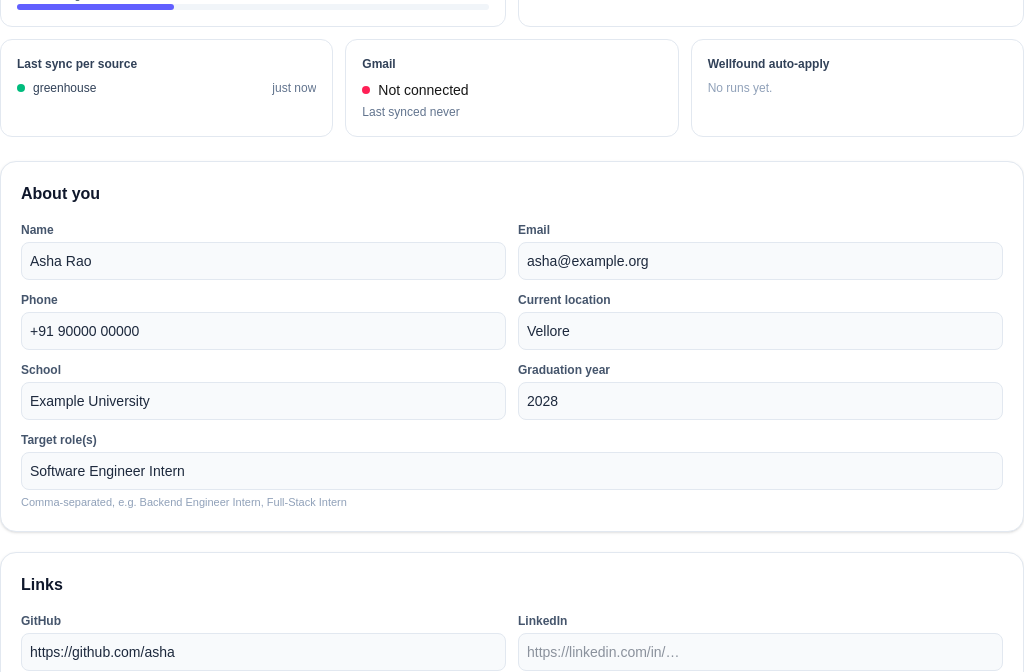
Test: ProfileManager › saves every section without wiping data, merging application answers
The width and height of the screenshot is (1024, 672).
(page scrolled)
Expected: the field showing "Asha Rao" is shown, left=21, top=242, right=506, bottom=280
Replace the text in the field showing "Vellore" with "Chennai" at (760, 331), box left=518, top=312, right=1003, bottom=350
(page scrolled)
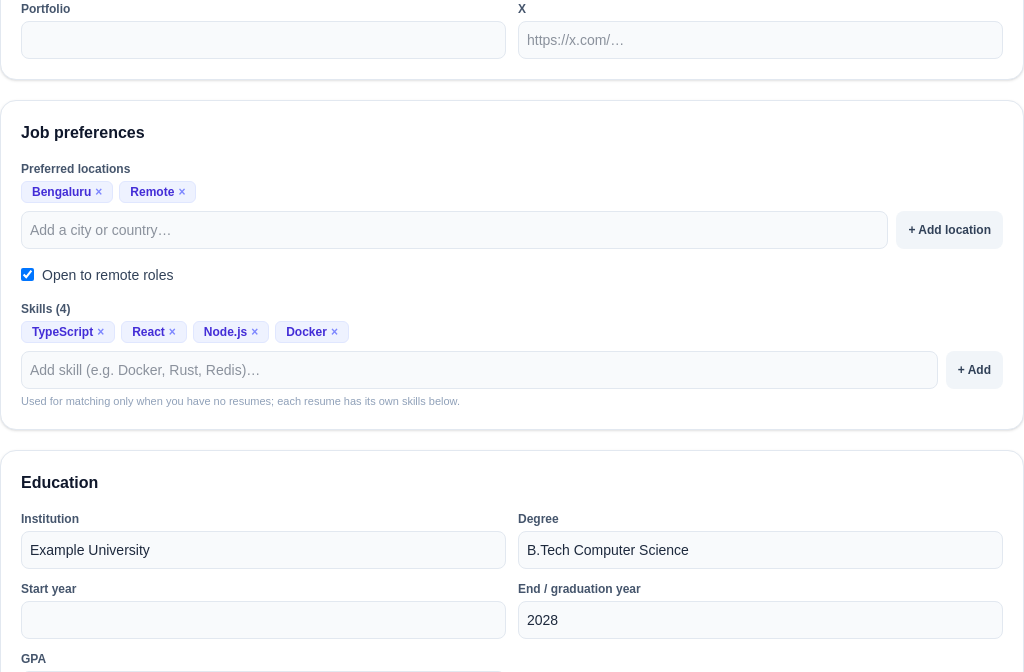
Click the button named "Remove Docker" at (334, 332), box left=331, top=324, right=338, bottom=340
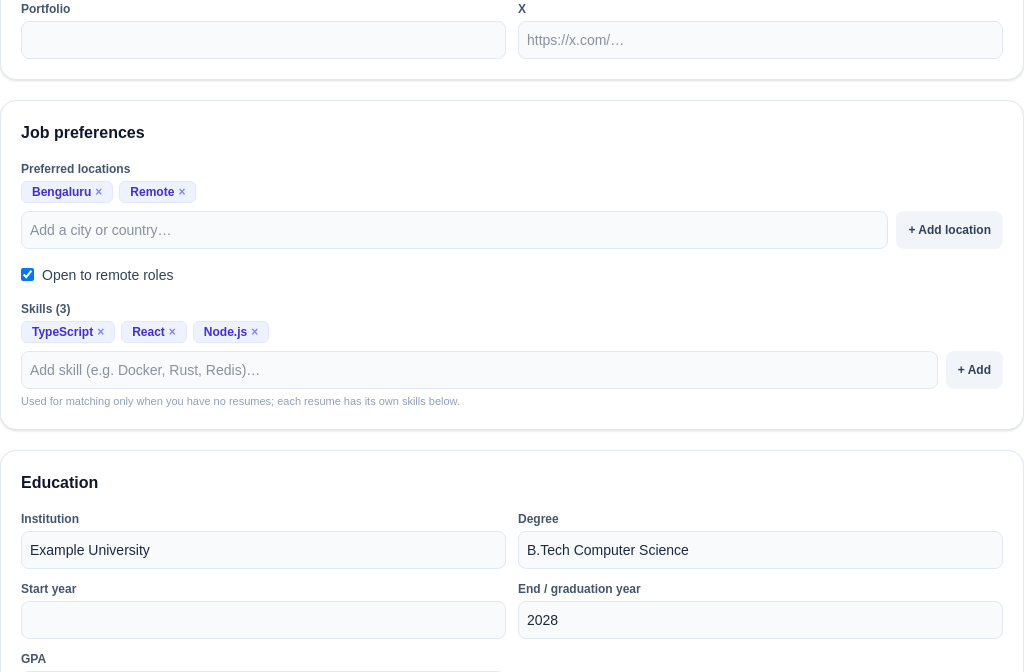
Type "Kubernetes" into the field with placeholder "Add skill (e.g. Docker, Rust, Redis)…" at (479, 370), box left=21, top=350, right=938, bottom=388
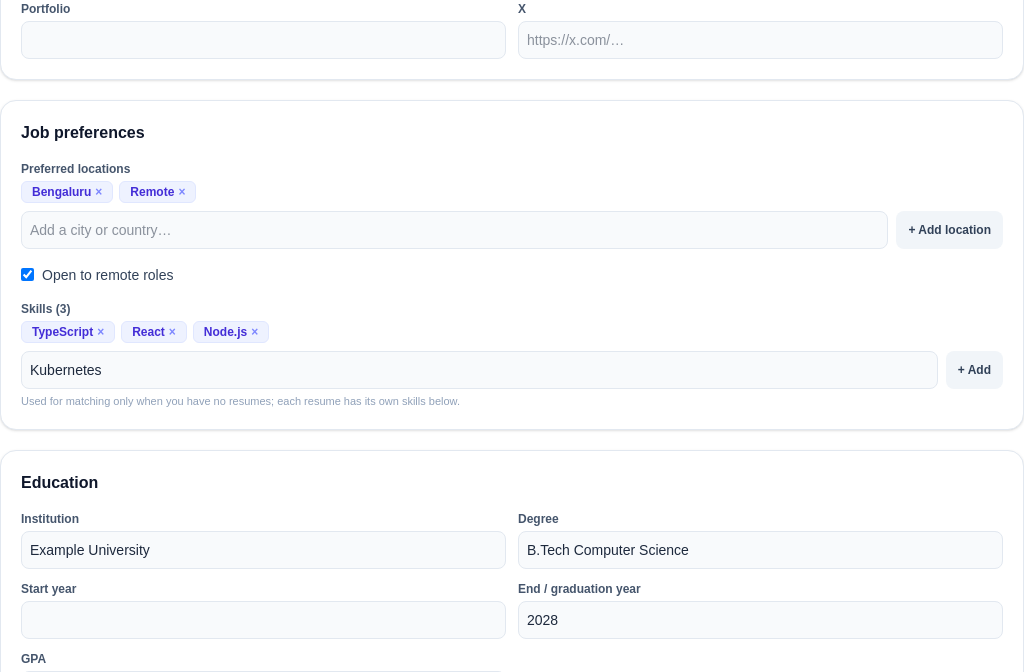
Click the button "+ Add" at (974, 370), box left=946, top=350, right=1003, bottom=388
(page scrolled)
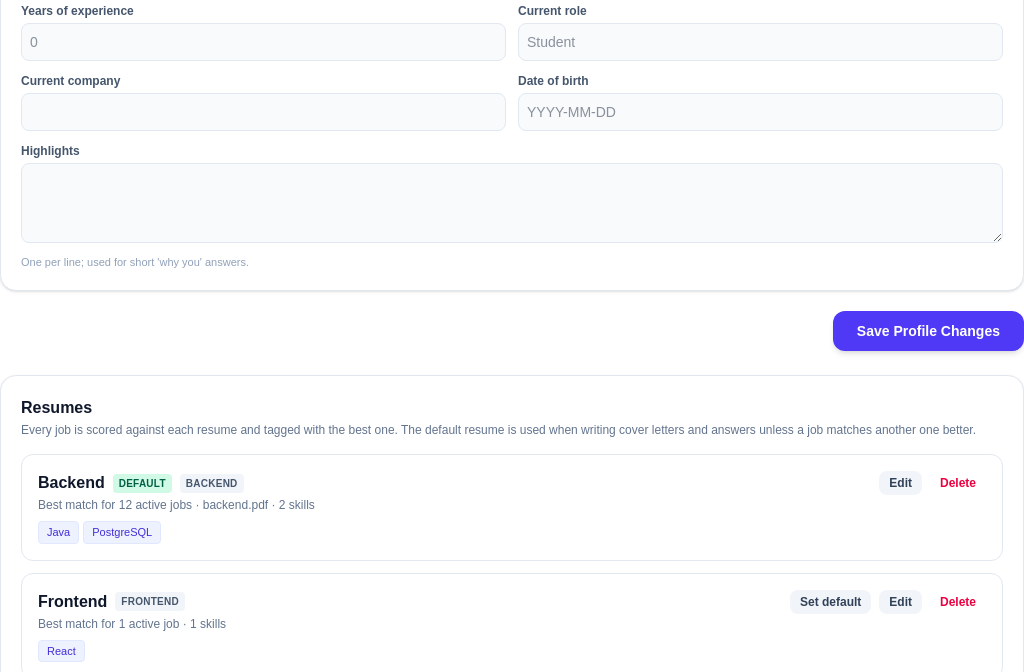
Click the button "Save Profile Changes" at (928, 331), box left=833, top=311, right=1023, bottom=351
(page scrolled)
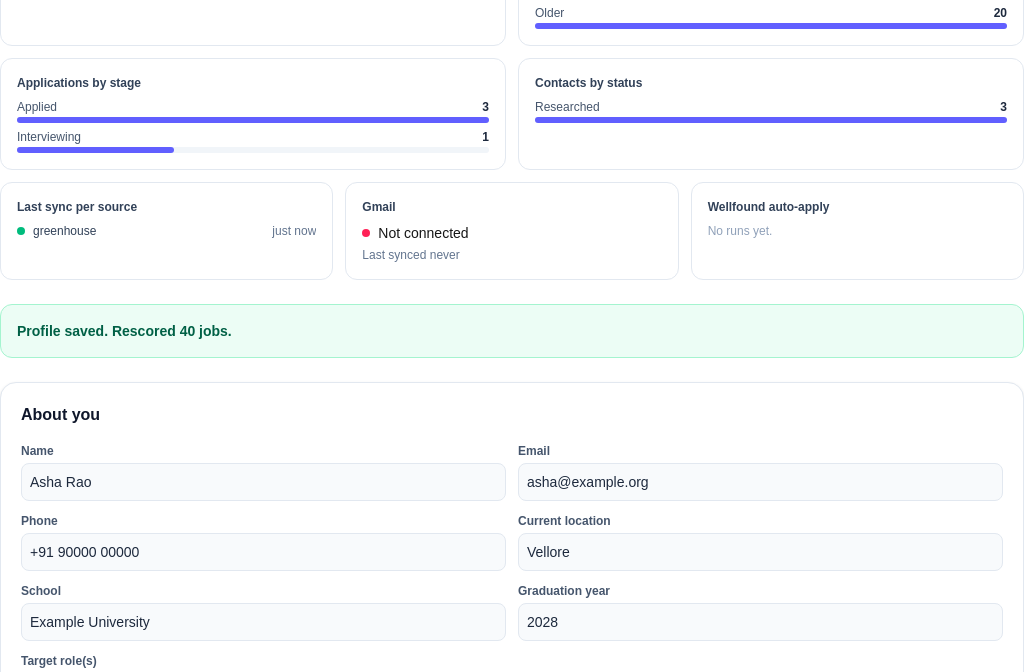
Expected: the text "Profile saved. Rescored 40 jobs." is shown, left=0, top=304, right=1023, bottom=358
